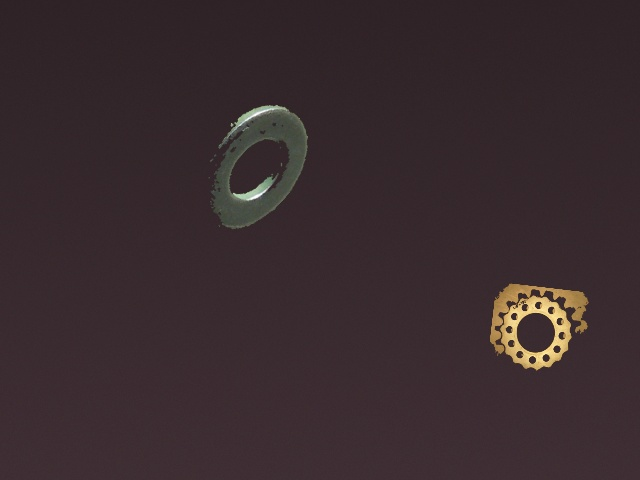gear: (489, 283, 588, 370)
washer: (208, 105, 307, 229)
